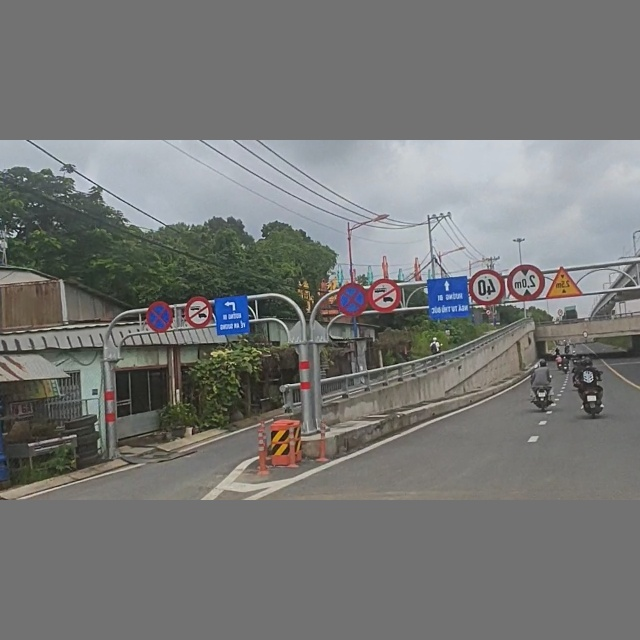P.107: (367, 279, 399, 312), (183, 297, 216, 328)
P.117*: (506, 260, 545, 303)
P.127*40: (467, 269, 505, 305)
P.130: (336, 283, 367, 317), (144, 301, 173, 333)
W.239b*: (545, 267, 583, 300)
